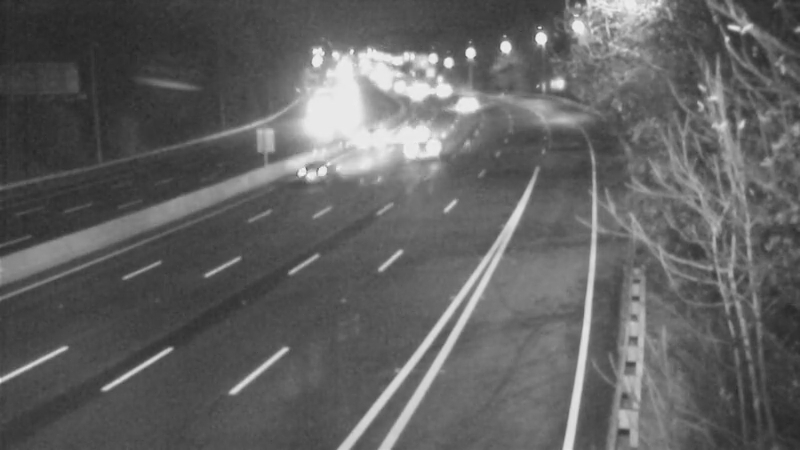vehicle: (279, 123, 359, 203), (440, 77, 490, 127), (390, 105, 440, 155), (404, 124, 454, 174), (355, 110, 405, 160)
